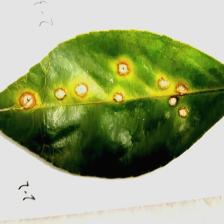canker: (9, 53, 195, 120)
